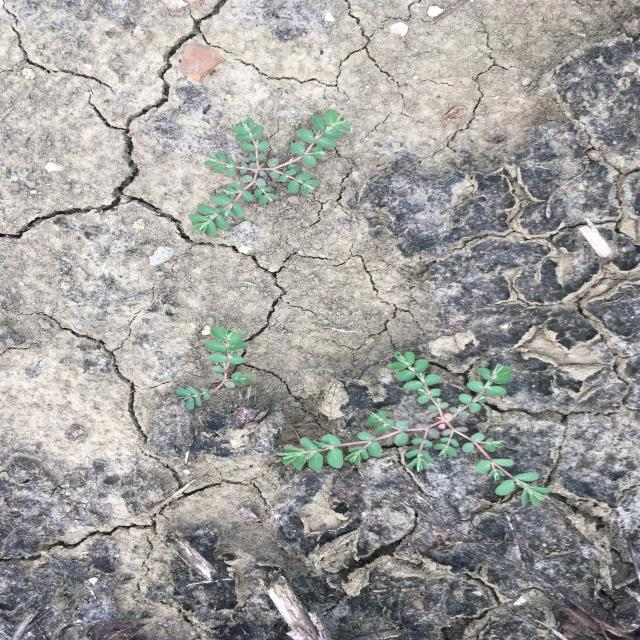SpottedSpurge: (273, 349, 554, 508), (187, 108, 354, 239), (172, 324, 254, 411)
